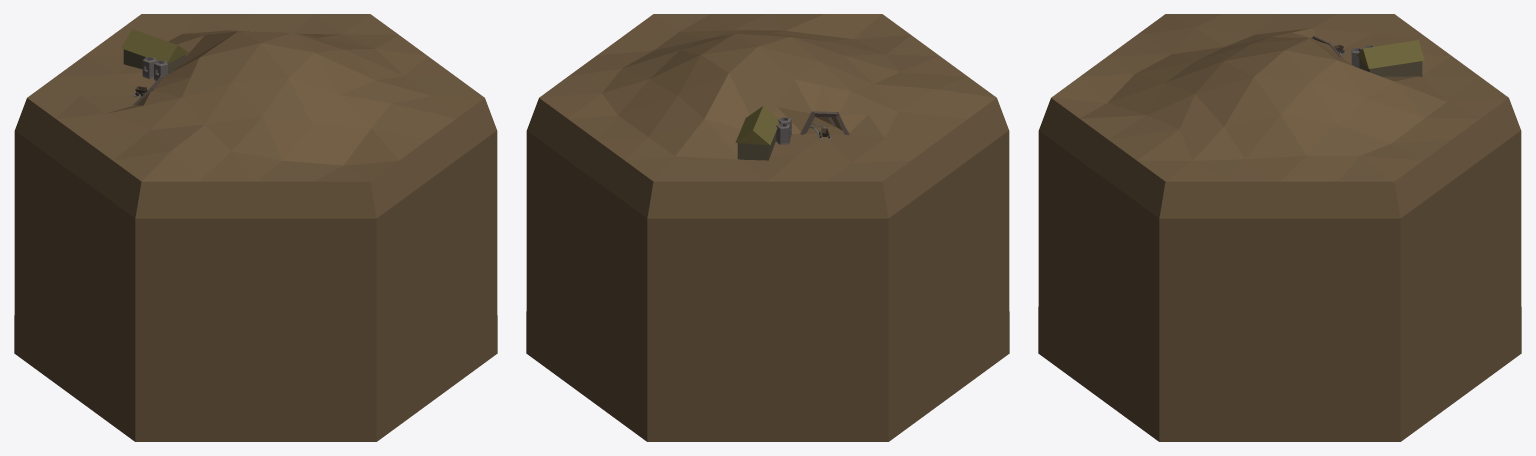
File: diamond_mine.fbx
3 renders of one model, left to right at view 1: azimuth 30°, elevation 25°; view 2: azimuth 150°, elevation 25°; view 3: azimuth 270°, elevation 25°, orthographic.
Parts seen in each view (by area): view 1: Cylinder.001, Cube.038, Cube.037; view 2: Cylinder.001, Cube.038, Cube.037; view 3: Cylinder.001, Cube.038, Cube.037.
Part boxes in pixels (x1,y1,x2,y2): Cylinder.001: [14, 14, 497, 441]; Cube.038: [121, 29, 188, 63]; Cube.037: [123, 49, 186, 73]; Cylinder.001: [526, 14, 1009, 441]; Cube.038: [735, 106, 779, 145]; Cube.037: [737, 132, 776, 160]; Cylinder.001: [1038, 14, 1521, 441]; Cube.038: [1357, 40, 1424, 68]; Cube.037: [1359, 58, 1422, 76].
Bounding box in the file's own units: 173 × 140 × 200.
